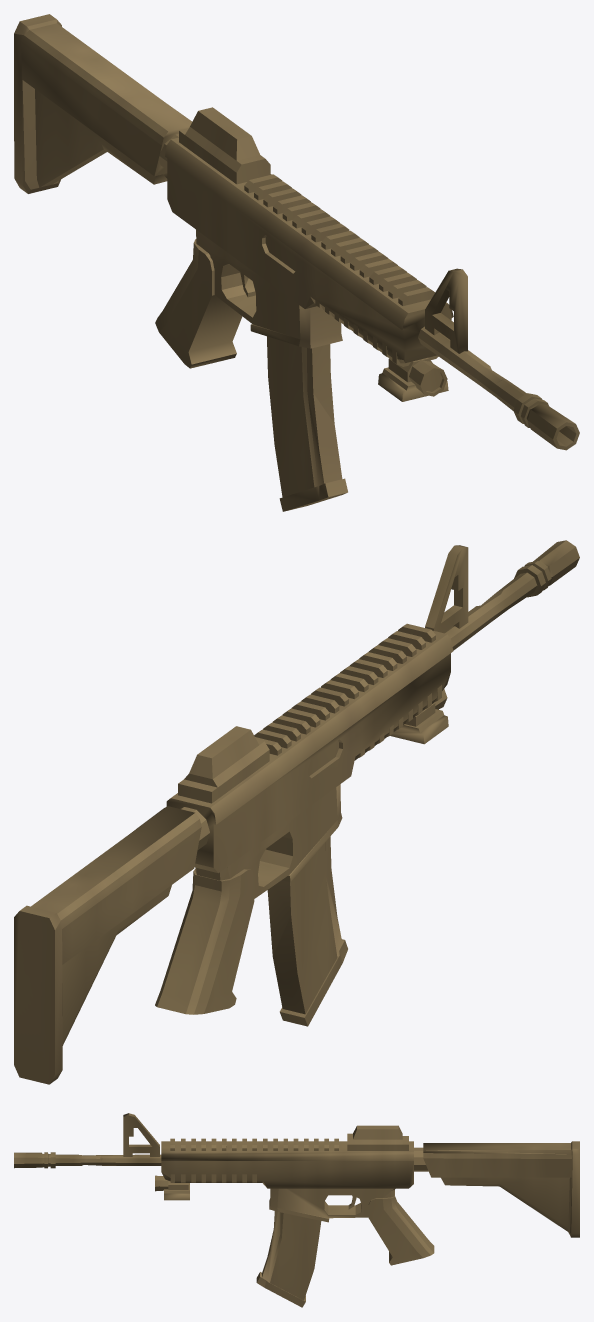
The picture shows the model from 3 angles, top to bottom: view 1: azimuth 30°, elevation 25°; view 2: azimuth 150°, elevation 25°; view 3: azimuth 270°, elevation 25°; orthographic projection. The views are drawn at different scales.
Visible parts, largest first — view 1: ar77; view 2: ar77; view 3: ar77.
Part boxes in pixels (box(x1,y1,x2,y2)): ar77: box(14, 14, 579, 511); ar77: box(14, 540, 579, 1084); ar77: box(14, 1113, 579, 1307).
Bounding box in the file's own units: 0.0502 × 0.3339 × 0.9.
1 material, 1 textured.
